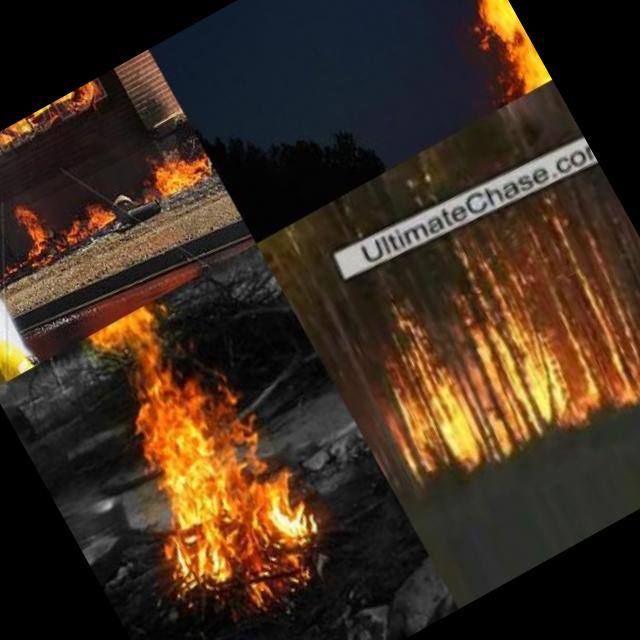fire: (49, 278, 338, 620), (343, 191, 640, 521), (283, 0, 552, 175), (0, 165, 121, 278), (124, 110, 223, 216), (0, 76, 108, 153)
